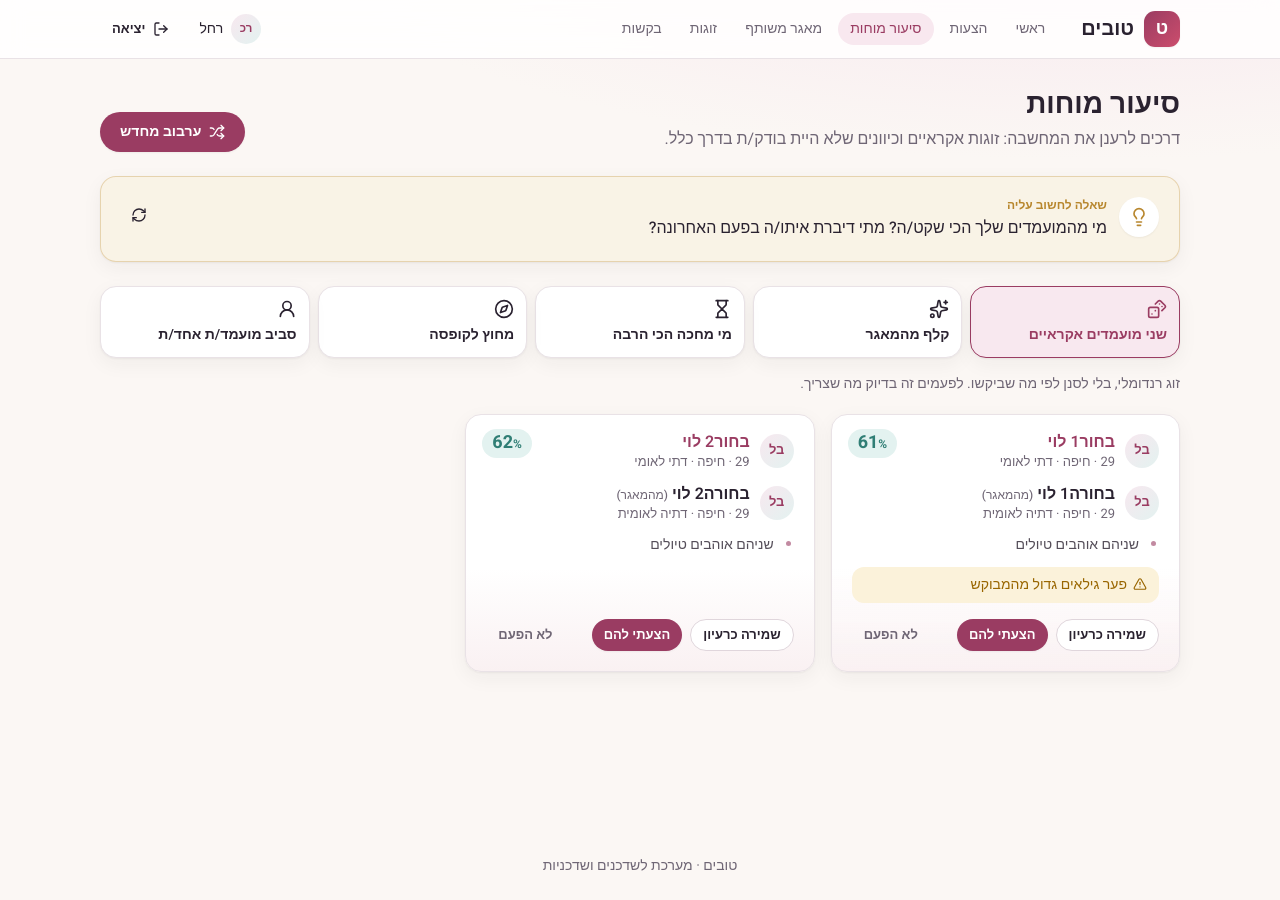
brainstorm › shows random ideas, saves one as an idea and dismisses another
Expected: the list item "פער גילאים גדול מהמבוקש" is shown, [970,574,1147,595]
Click the button "שמירה כרעיון" below "פער גילאים גדול מהמבוקש". click: [1107, 635]
box: [1056,619,1159,651]
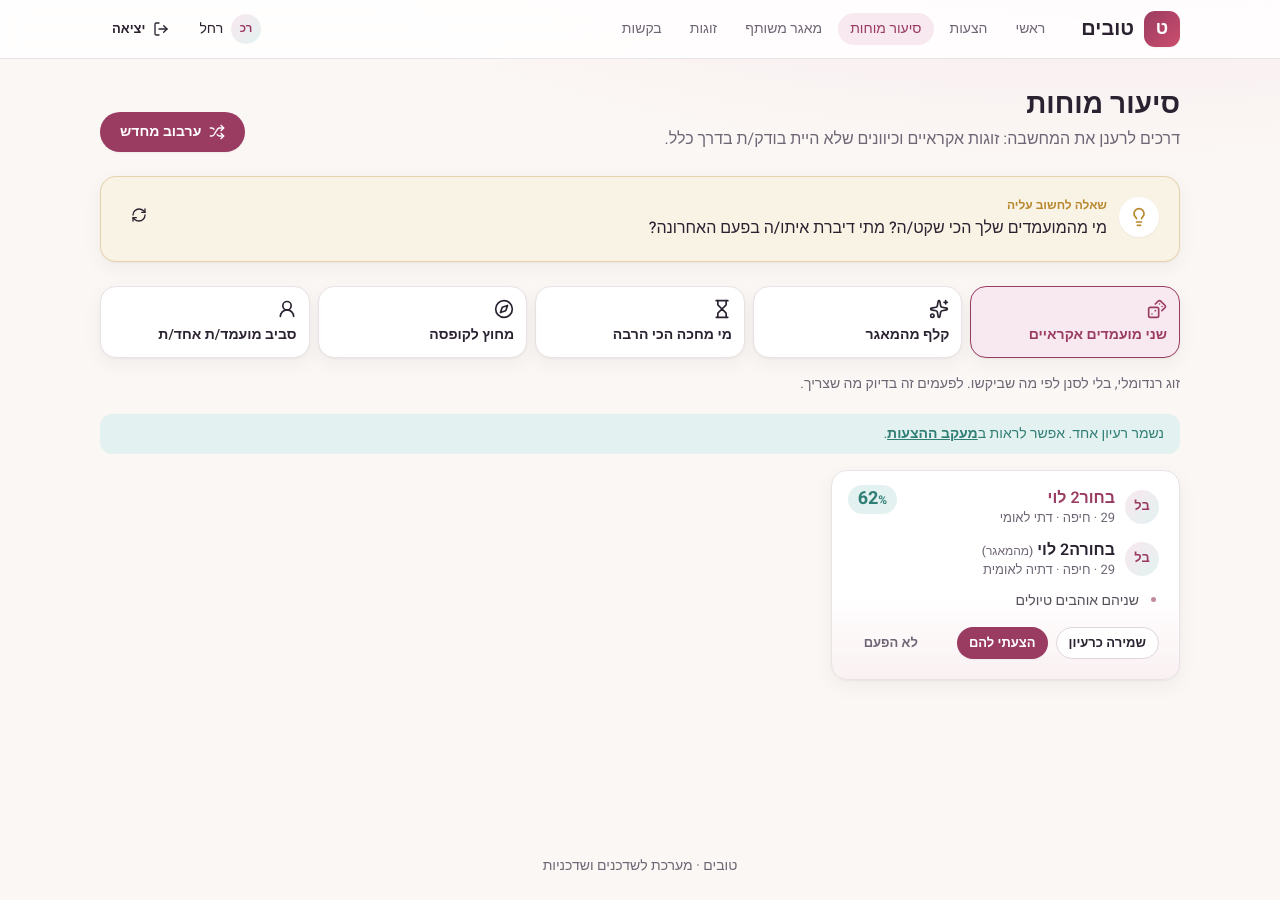
Expected: the message shows "נשמר רעיון אחד", [1072,423,1164,444]
Expected: the link "בחור1 " is gone
Click the button "לא הפעם". click: [891, 643]
box: [852,627,930,659]
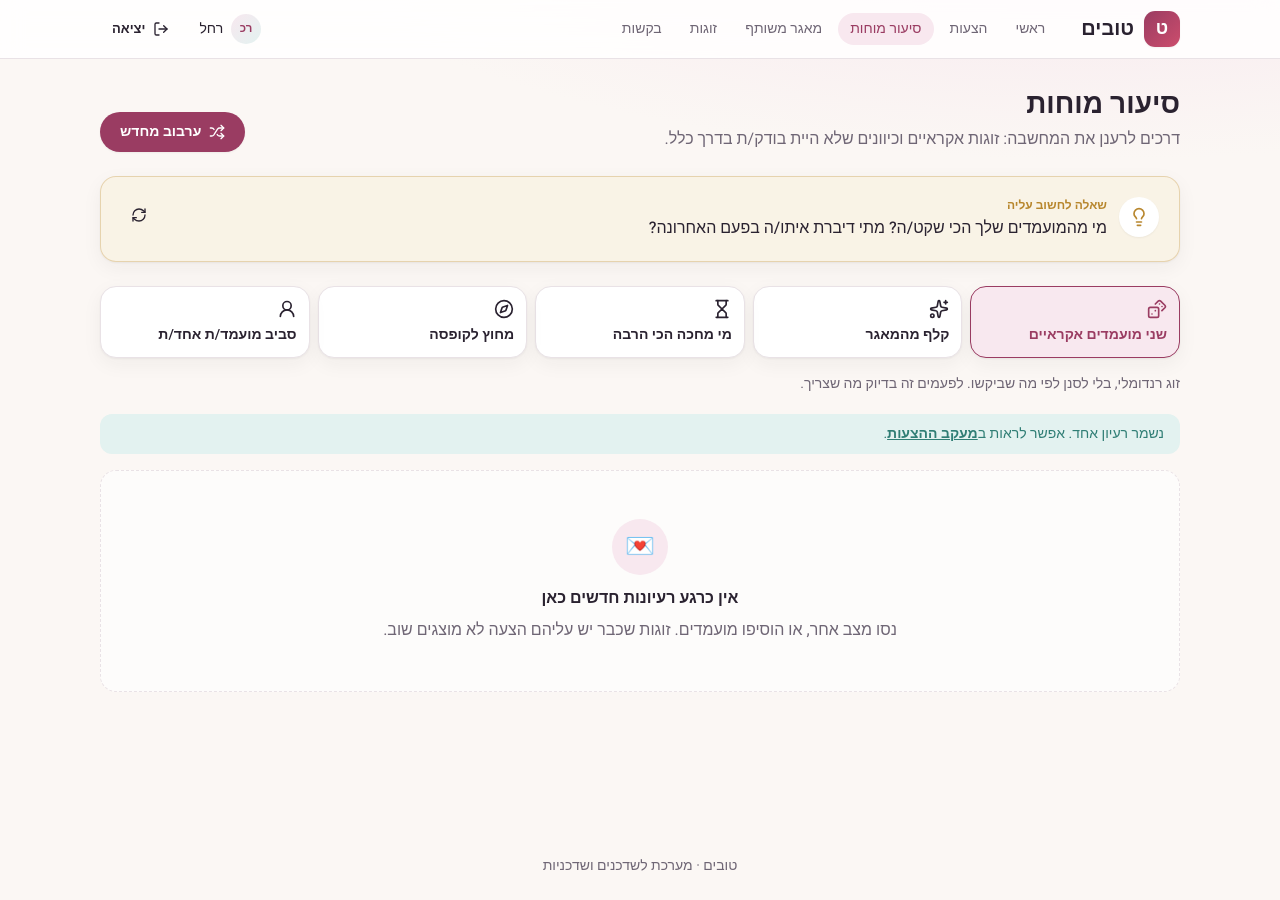
Expected: the heading "אין כרגע רעיונות חדשים כאן" is shown, [542,587,738,609]
